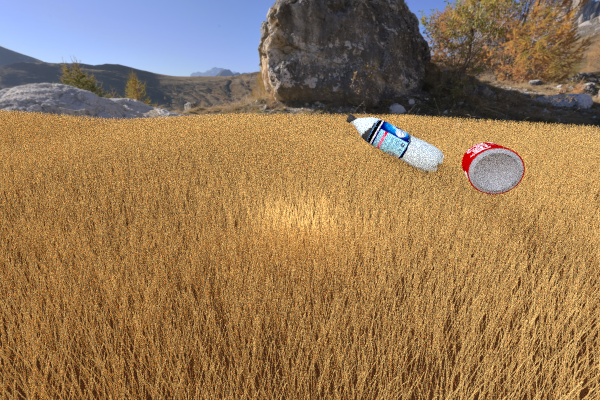bottle: (346, 114, 444, 172)
can: (461, 142, 524, 194)
